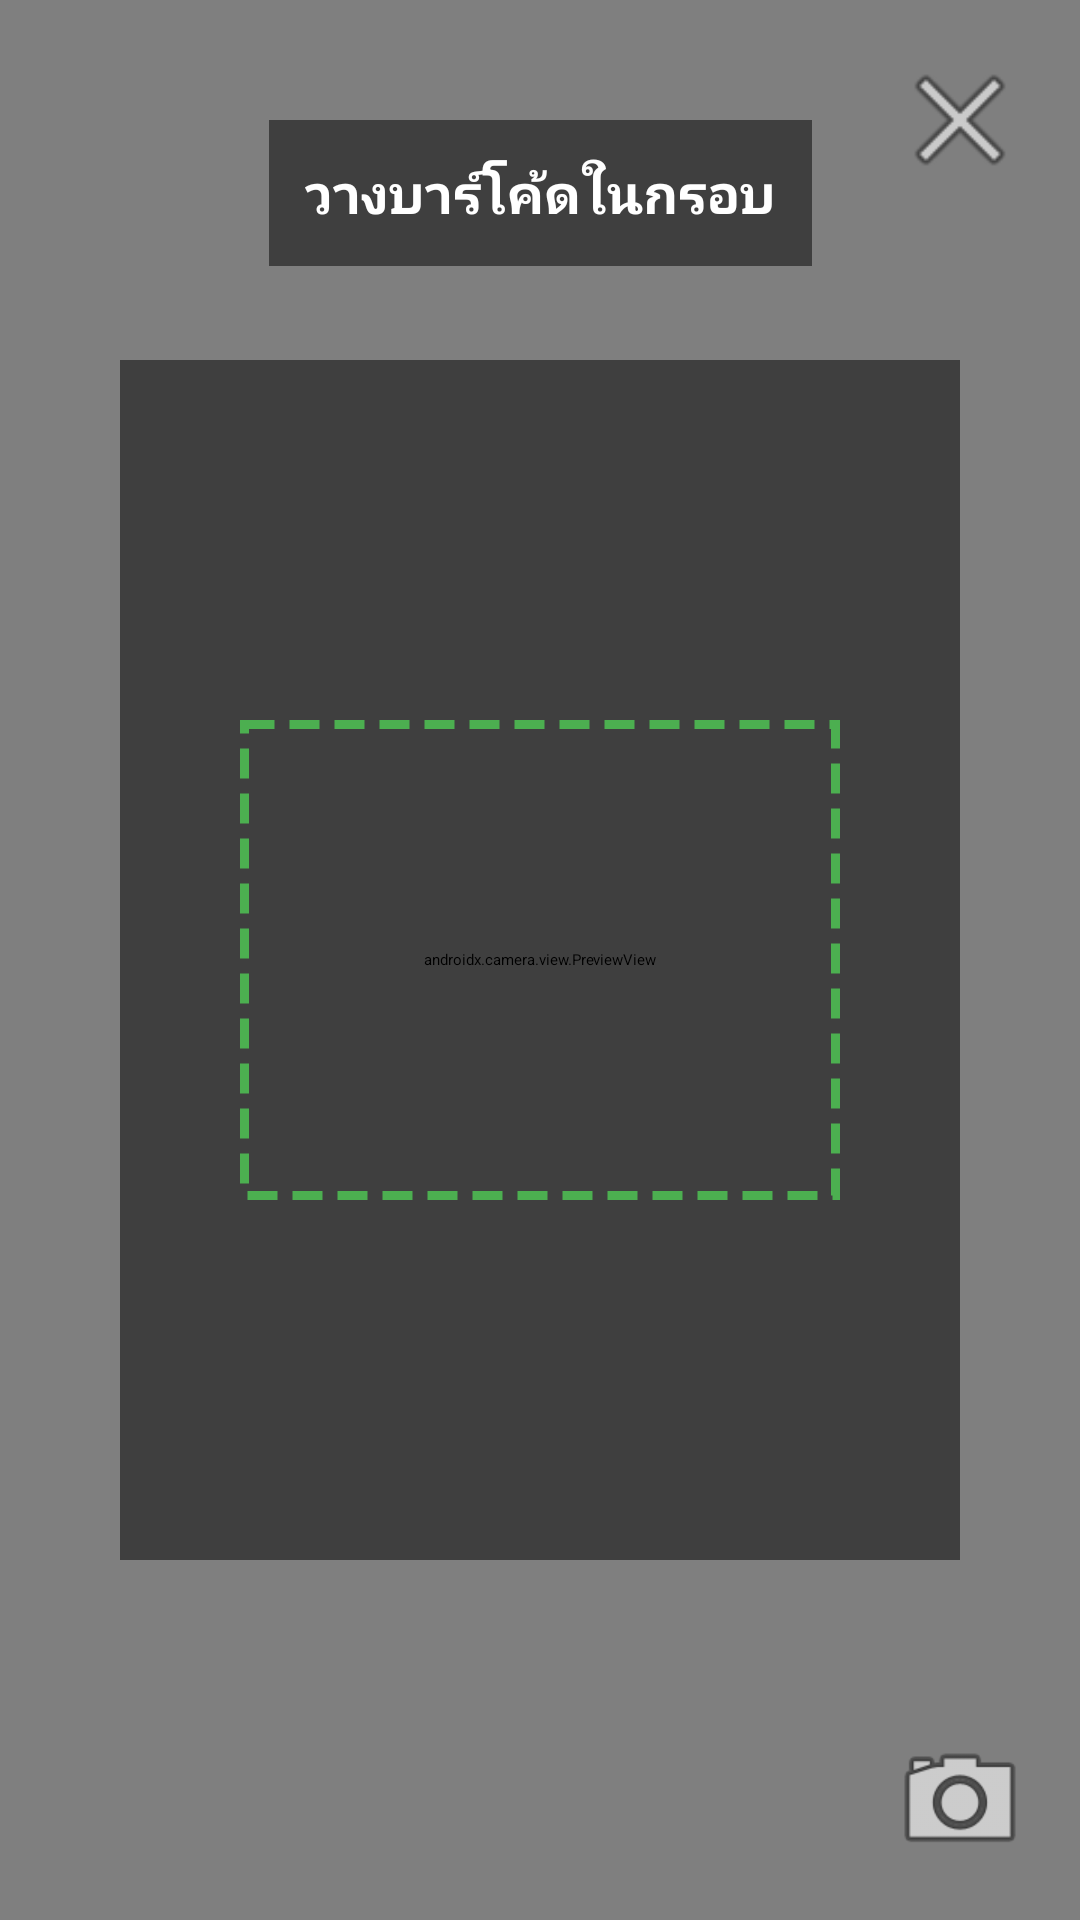

Where to tap for icons on this 1080px x 1920px app screen, as point (x, y):
Close: point (960, 120)
